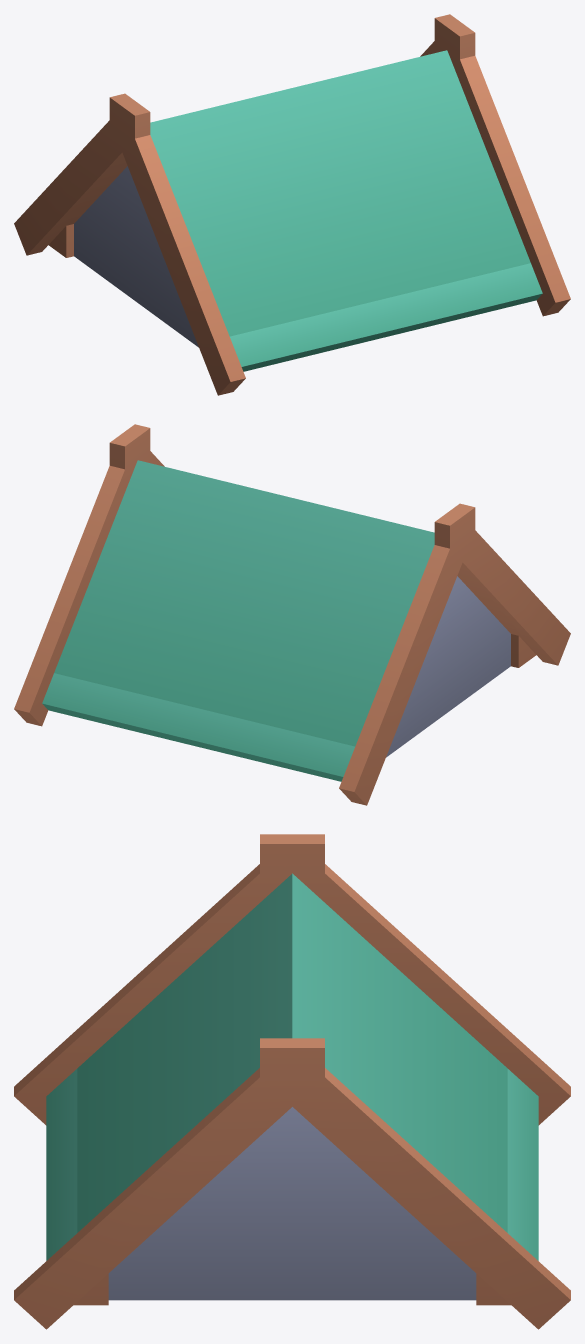
File: roof-kn-roof-gable-detail.glb
3 renders of one model, top to bottom at view 1: azimuth 30°, elevation 25°; view 2: azimuth 150°, elevation 25°; view 3: azimuth 270°, elevation 25°, orthographic. The views are drawn at different scales.
Parts seen in each view (by area): view 1: roof-gable-detail; view 2: roof-gable-detail; view 3: roof-gable-detail.
Part boxes in pixels (x1,y1,x2,y2): roof-gable-detail: (14, 14, 570, 395); roof-gable-detail: (14, 424, 570, 805); roof-gable-detail: (14, 834, 570, 1329).
Size of the model in its own units: 3.3 by 2.03 by 3.64.
Materials: 1 (1 with a texture image).
